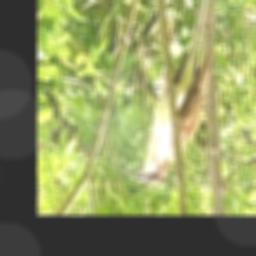Cuckoo: (134, 55, 211, 184)
